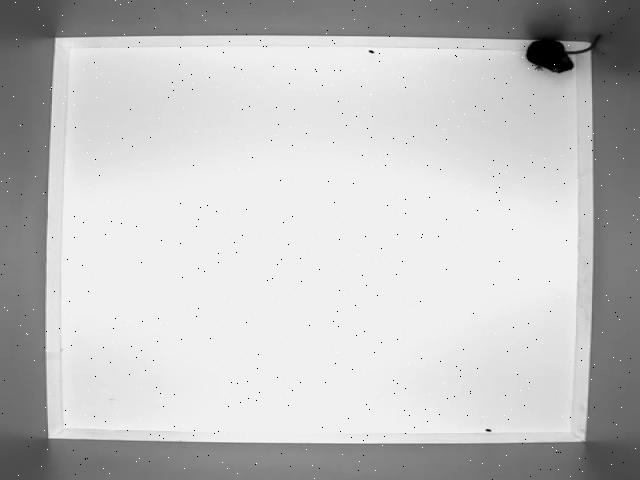Tikus: (524, 31, 608, 83)
